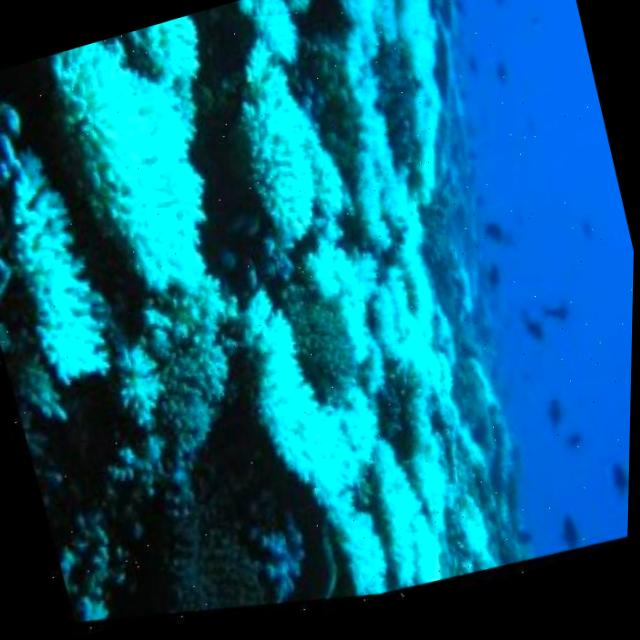Bleached Coral: (115, 0, 613, 636), (0, 7, 316, 519)
